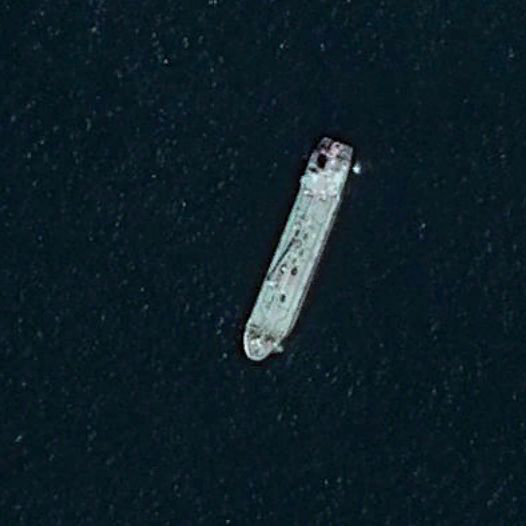boat: (241, 136, 358, 362)
